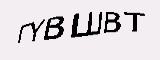А: (54, 5, 76, 39)
В: (119, 15, 133, 35)
Ж: (95, 10, 120, 34)
С: (76, 7, 95, 36)
Ч: (30, 7, 59, 41)
